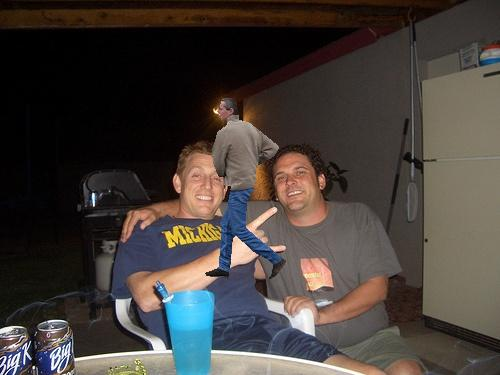tampered: (206, 99, 286, 280)
